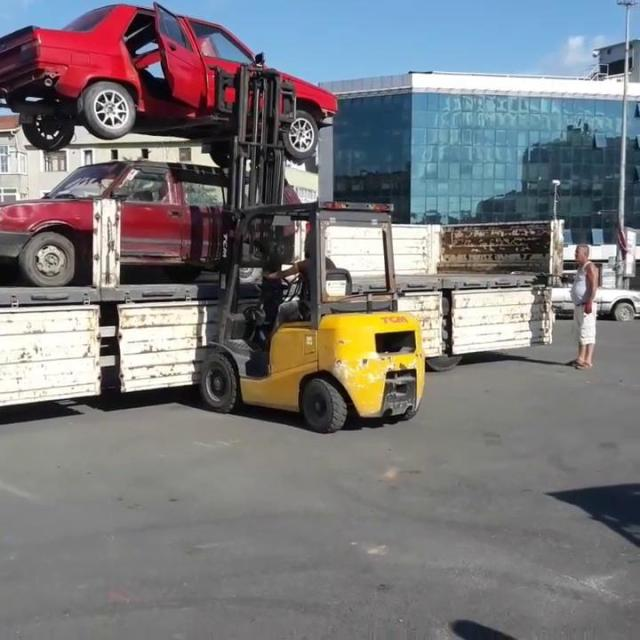forklift: (205, 206, 428, 436)
person: (246, 220, 352, 346), (554, 222, 614, 388)
